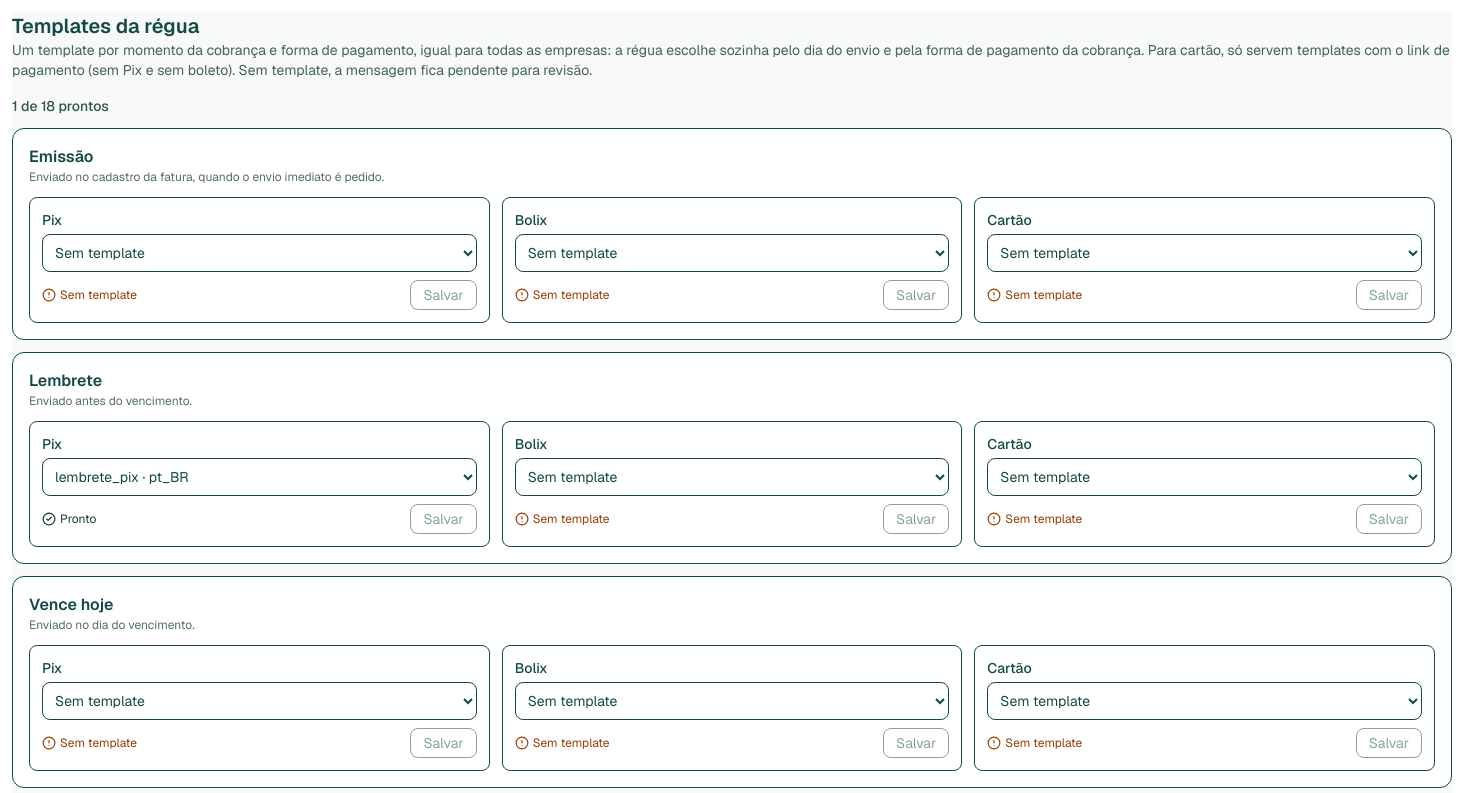
Scenario: CollectionTemplateSlots › reloads on a conflict instead of overwriting
Select "Sem template" in the dropdown named "Template: Lembrete · Pix" at (259, 477), box [42,458,477,496]
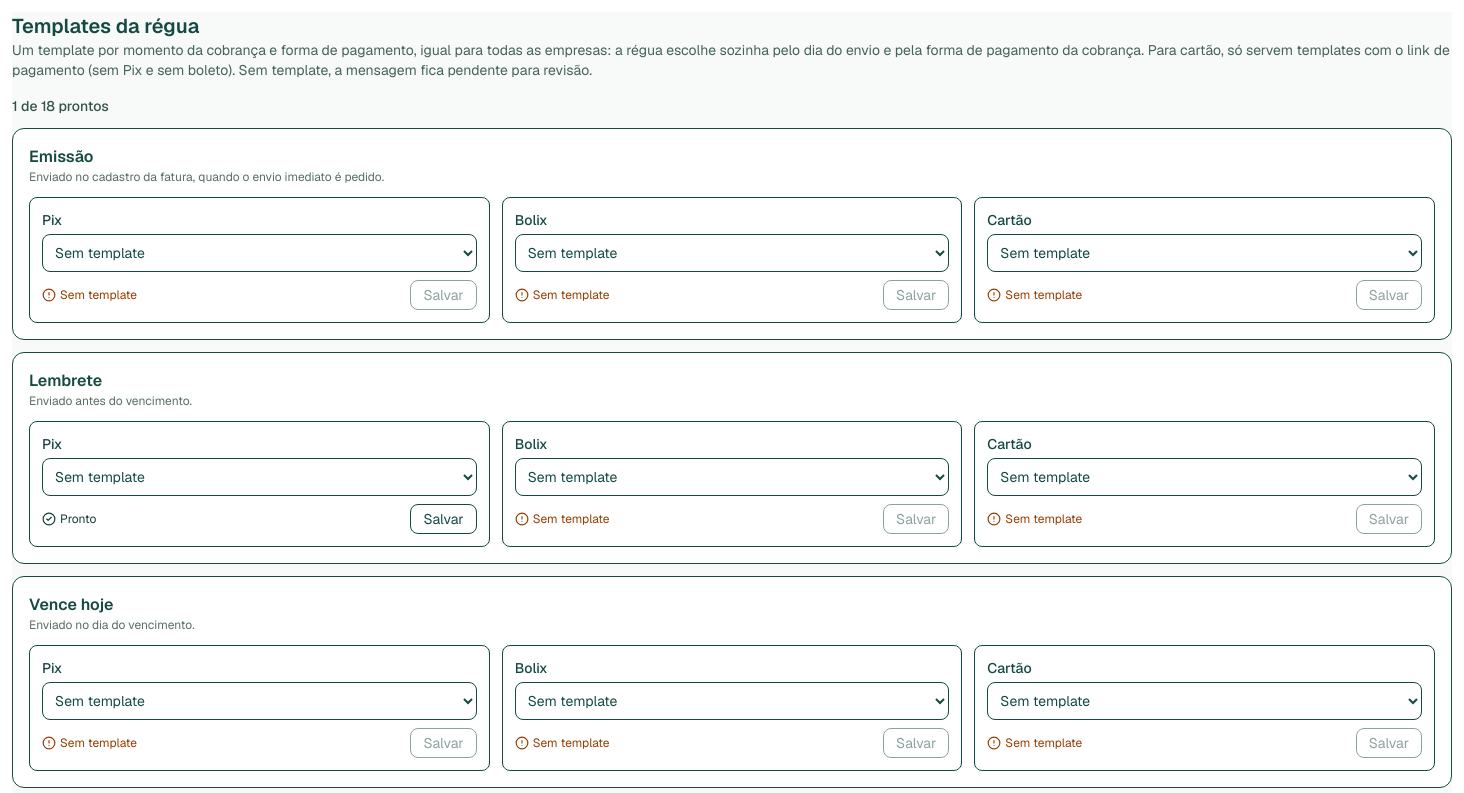
Click the button with aria-label "Salvar template: Lembrete · Pix".
click(444, 519)  # box [410,504,477,534]
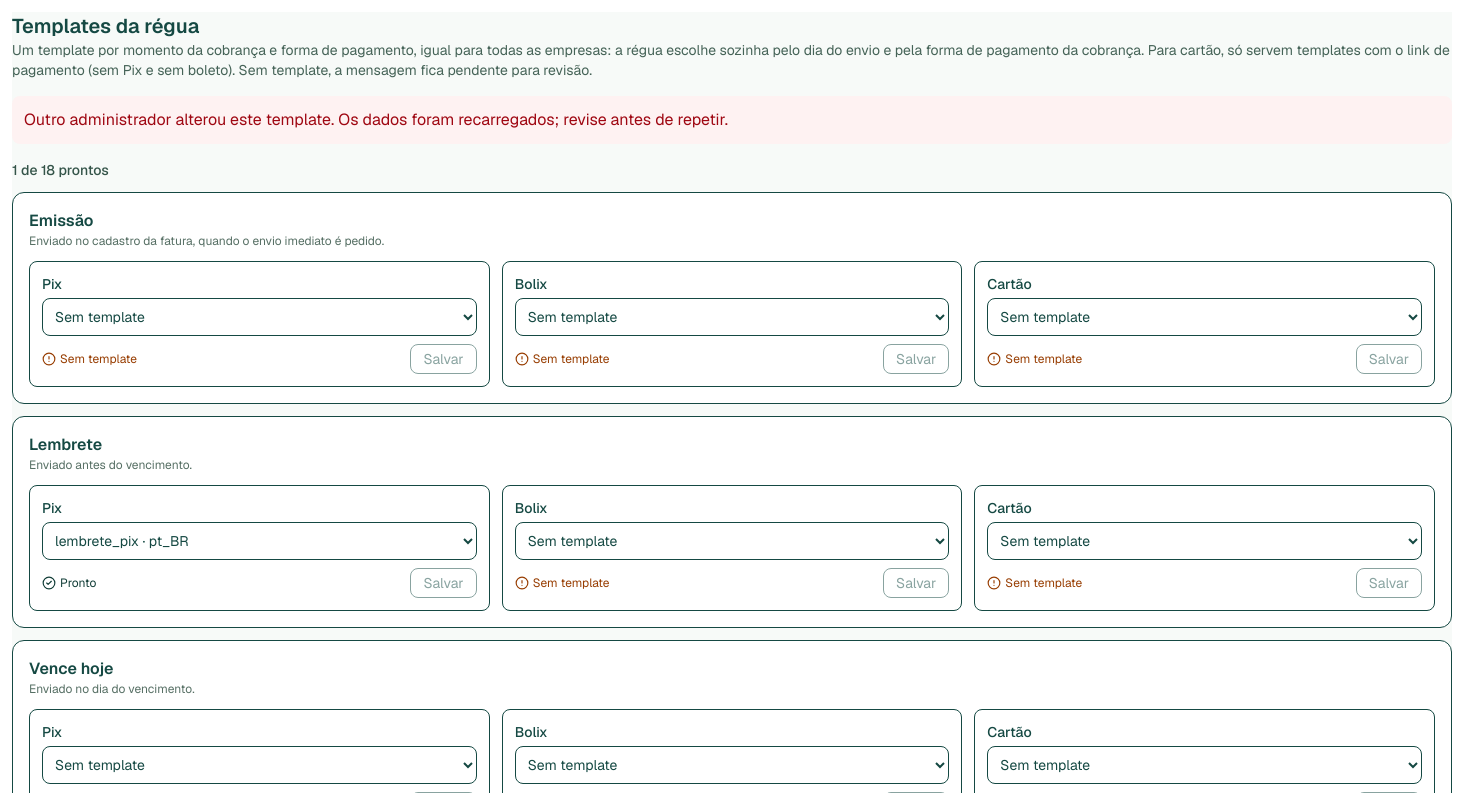
Result: the message shows "Outro administrador" at [24,109,728,130]
